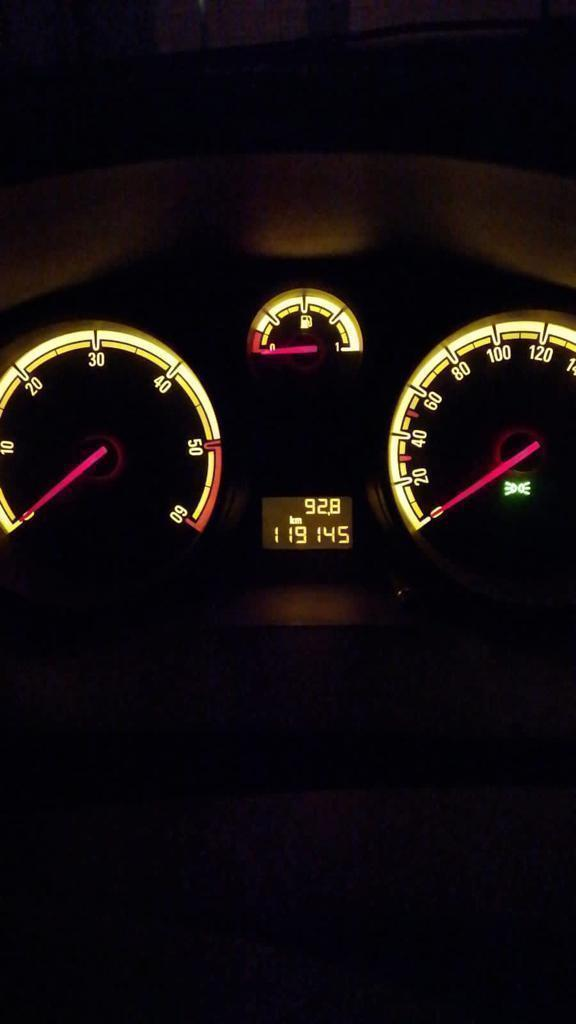,: (327, 510, 330, 517)
1: (272, 525, 280, 545), (287, 526, 293, 544), (316, 524, 321, 544)
2: (317, 497, 327, 515)
4: (322, 525, 335, 543)
5: (337, 525, 349, 544)
8: (329, 497, 341, 514)
9: (294, 525, 307, 544), (304, 497, 315, 515)
X: (294, 517, 303, 524), (289, 514, 294, 524)
odometer: (261, 495, 354, 550)
